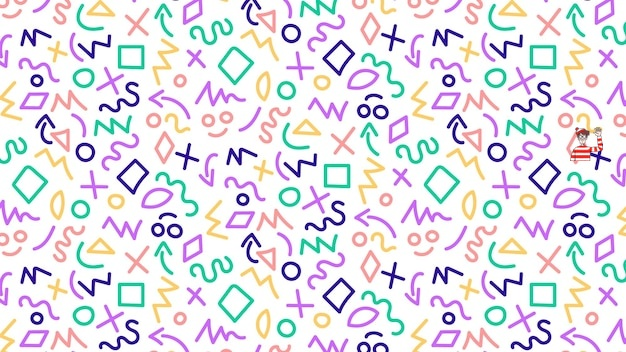waldo: (570, 127, 603, 161)
